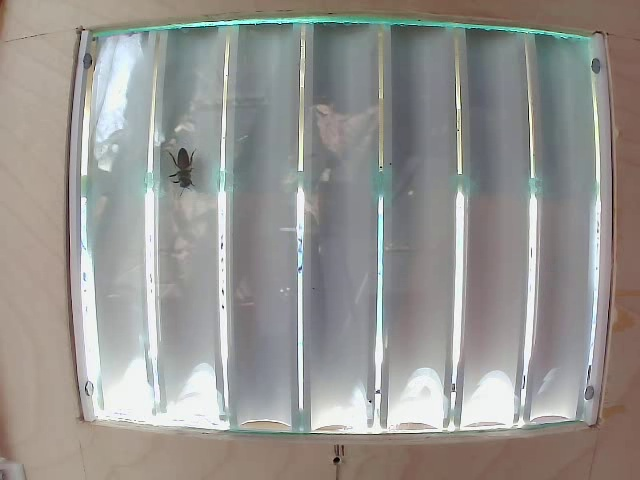bee: (162, 143, 200, 194)
